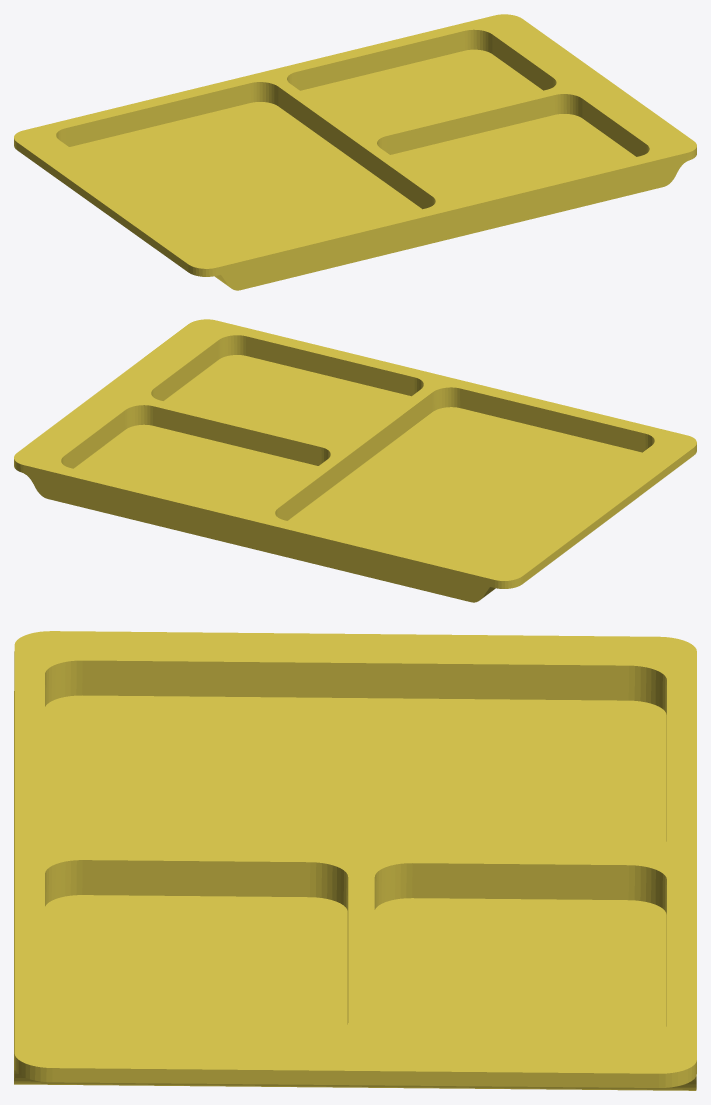
Rendered from Tray.dae.
The picture shows the model from 3 angles, top to bottom: view 1: azimuth 30°, elevation 25°; view 2: azimuth 150°, elevation 25°; view 3: azimuth 270°, elevation 25°; orthographic projection. The views are drawn at different scales.
Visible parts, largest first — view 1: tray; view 2: tray; view 3: tray.
Part boxes in pixels (<box>): tray: <box>14,14,696,290</box>; tray: <box>14,319,696,602</box>; tray: <box>14,631,696,1090</box>.
Bounding box in the file's own units: 0.3 × 0.1982 × 0.018.
